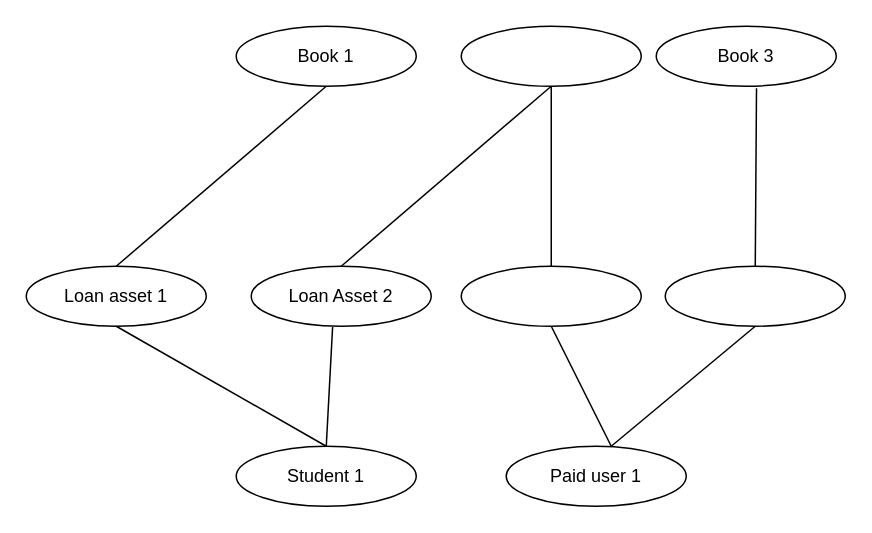
This 872x533 diagram has some shape labels left out. The box of each missing label's shape, as (x1, y1, x2, y2) in pixels:
Book 2: (460, 25, 641, 86)
Loan Asset 3: (460, 265, 641, 326)
Loan Asset 4: (664, 265, 845, 326)
